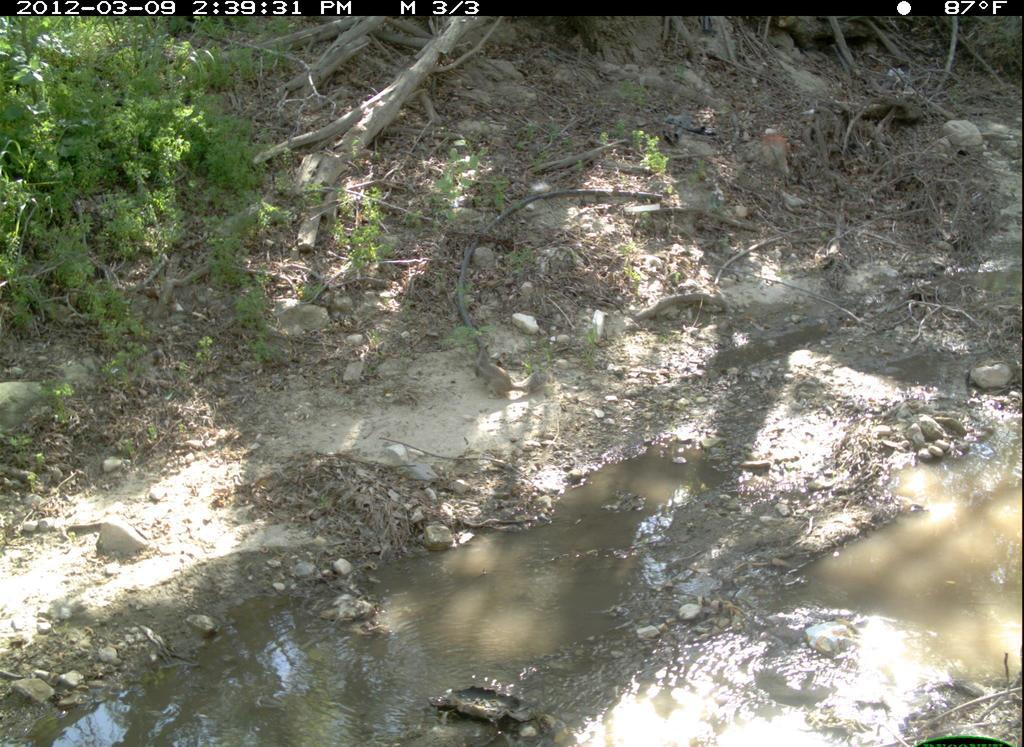squirrel: (470, 337, 552, 409)
